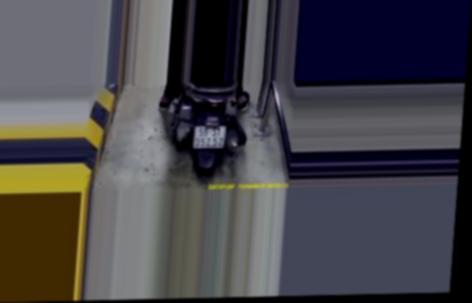License_Plate: (189, 124, 229, 153)
